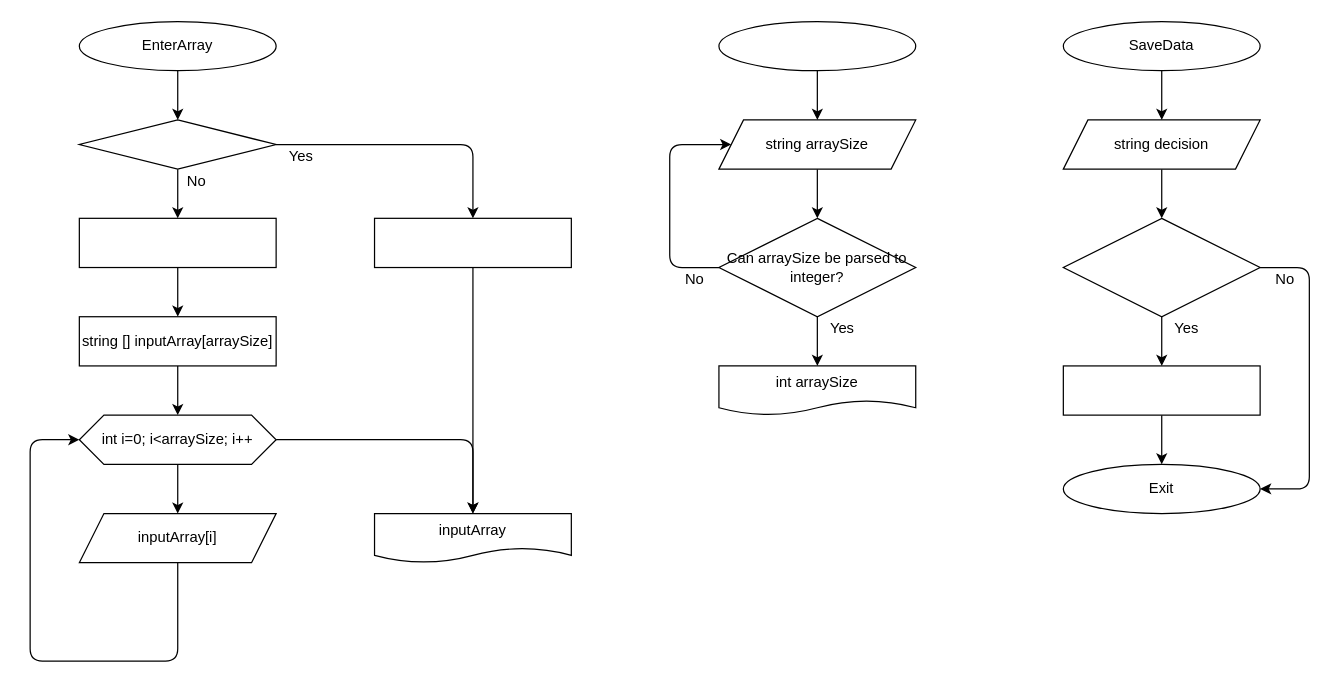
Some shapes in this 1341 by 692 pixel diagram are drawn without their labels. The centre of each missing label's shape, as x and y in pixels:
"arraySize=EnterArraySize()" belongs at point (177, 242).
"data.txt=string [] inputArray" belongs at point (1161, 390).
"decision == yes" belongs at point (1161, 267).
"Do data.txt exists?" belongs at point (177, 144).
"EnterArraySize" belongs at point (817, 45).
"string [] inputArray = data.txt" belongs at point (472, 242).
